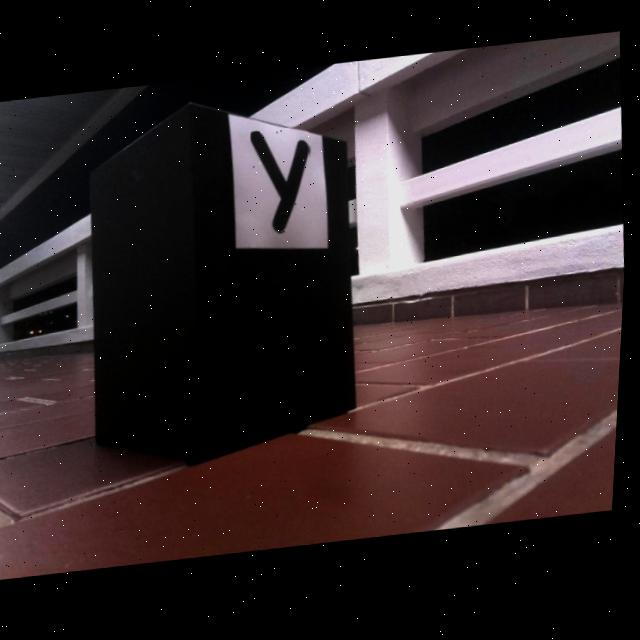Y: (253, 133, 310, 235)
